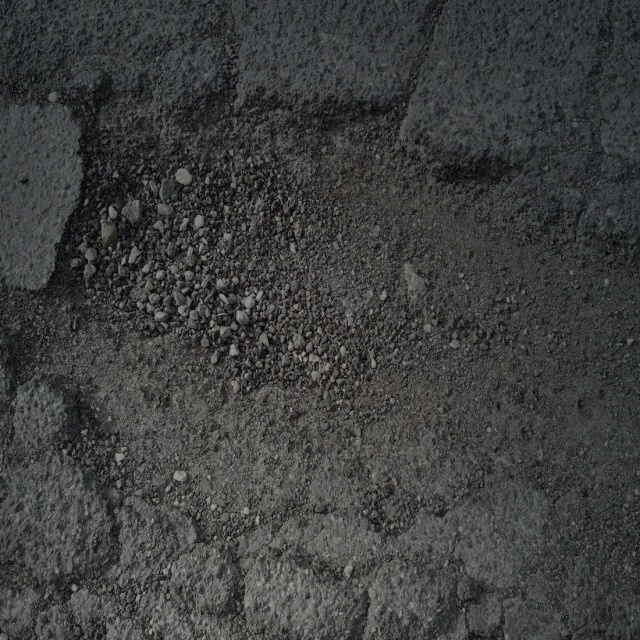pothole: (45, 65, 518, 548)
